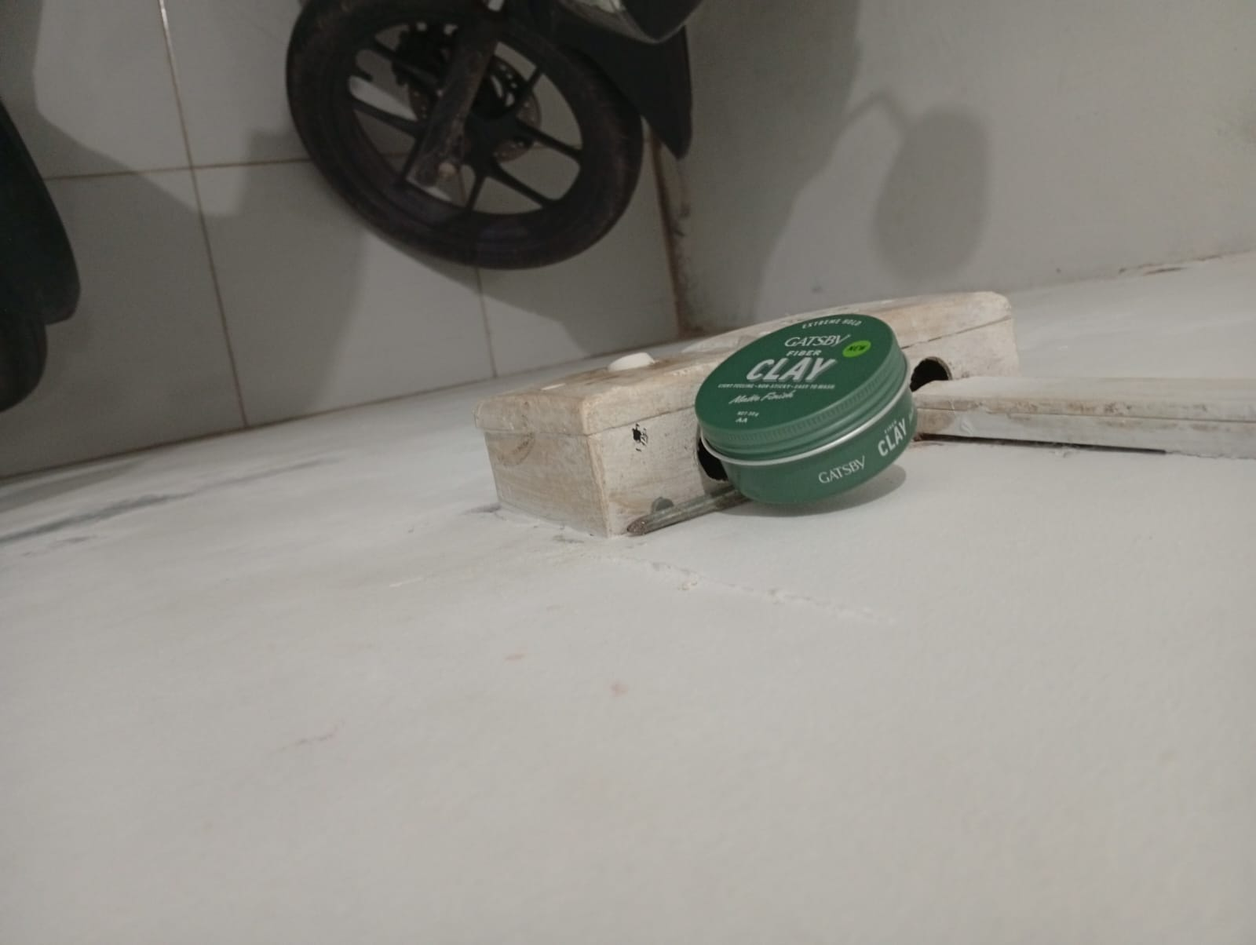Minyak_Rambut: (651, 301, 957, 529)
